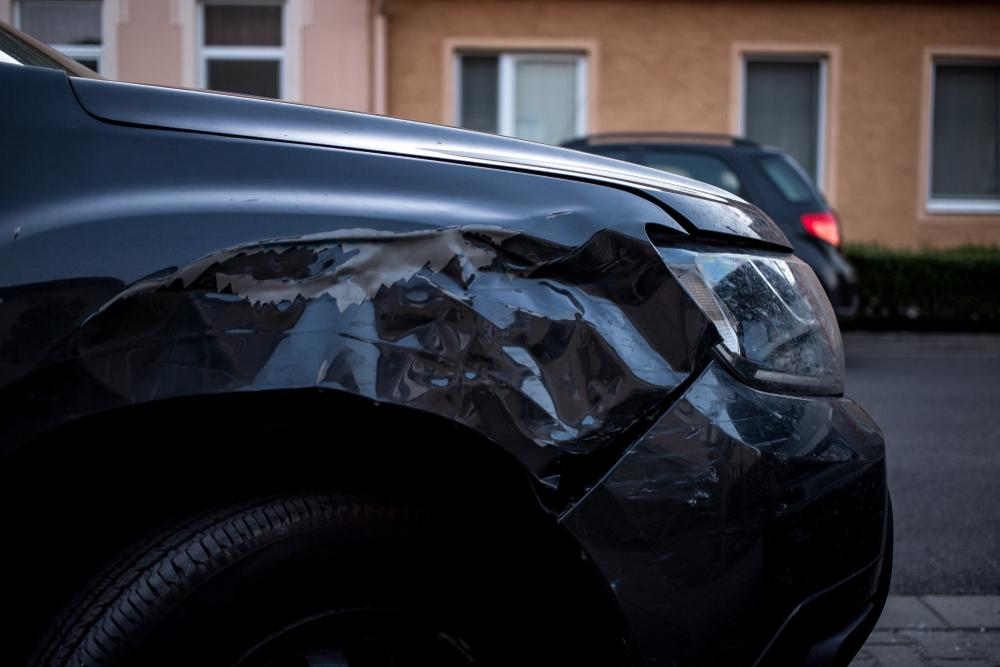dent: (79, 221, 704, 488)
scratch: (600, 365, 845, 511)
